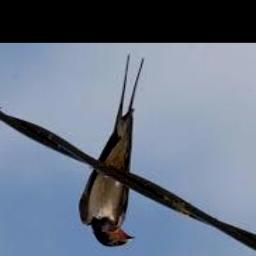Swallow: (79, 55, 145, 247)
